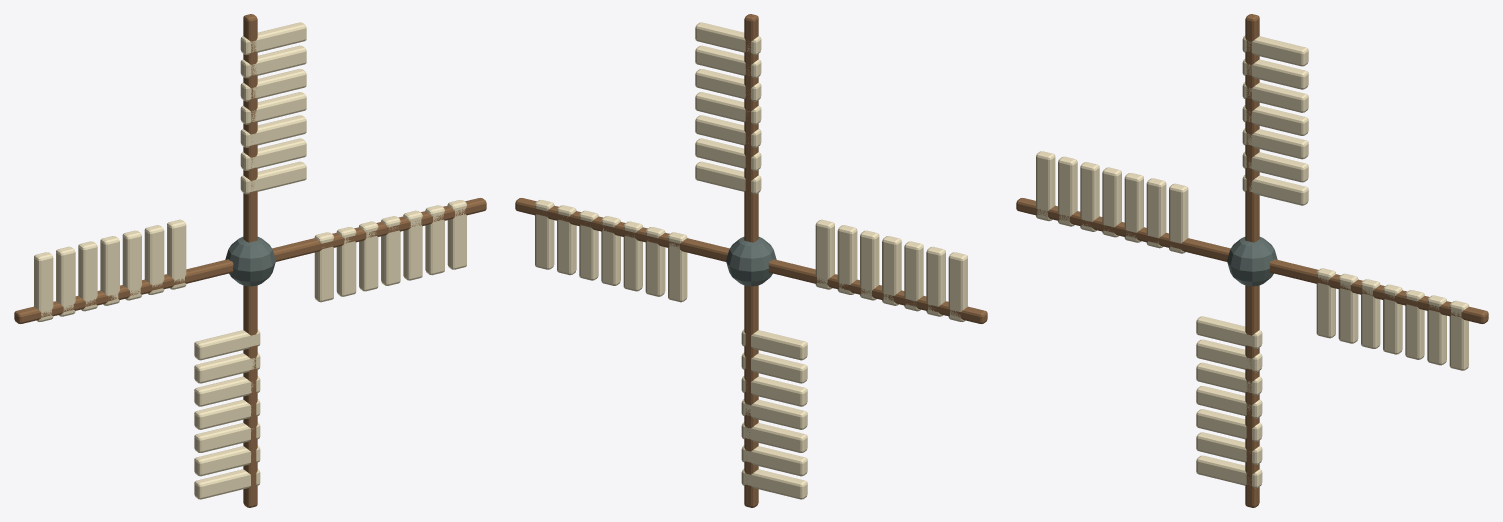
Rendered from trail_rotor.glb.
The picture shows the model from 3 angles, left to right: view 1: azimuth 30°, elevation 25°; view 2: azimuth 150°, elevation 25°; view 3: azimuth 330°, elevation 25°; orthographic projection.
Parts seen in each view (by area): view 1: trail_rotor; view 2: trail_rotor; view 3: trail_rotor.
Part boxes in pixels (bbox=[...]): trail_rotor: bbox=[14, 14, 486, 507]; trail_rotor: bbox=[515, 14, 987, 507]; trail_rotor: bbox=[1016, 14, 1488, 507].
Bounding box in the file's own units: 4.44 × 4.44 × 0.42.
